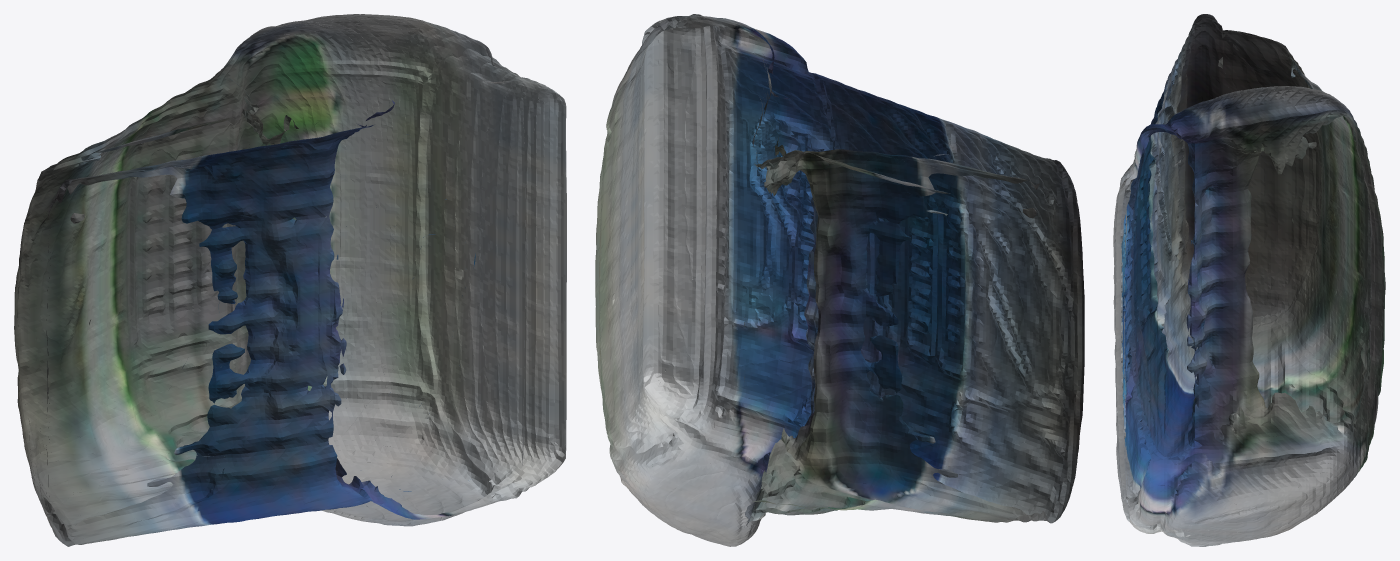
Rendered from dulux.glb.
3 renders of one model, left to right at view 1: azimuth 30°, elevation 25°; view 2: azimuth 150°, elevation 25°; view 3: azimuth 270°, elevation 25°, orthographic. The views are drawn at different scales.
Parts seen in each view (by area): view 1: mesh.obj; view 2: mesh.obj; view 3: mesh.obj.
Boxes of the visible parts, left/top/right/bottom form: mesh.obj: left=14, top=14, right=566, bottom=546; mesh.obj: left=595, top=14, right=1084, bottom=546; mesh.obj: left=1113, top=14, right=1385, bottom=546.
Bounding box in the file's own units: 0.9601 × 0.9169 × 0.5375.
